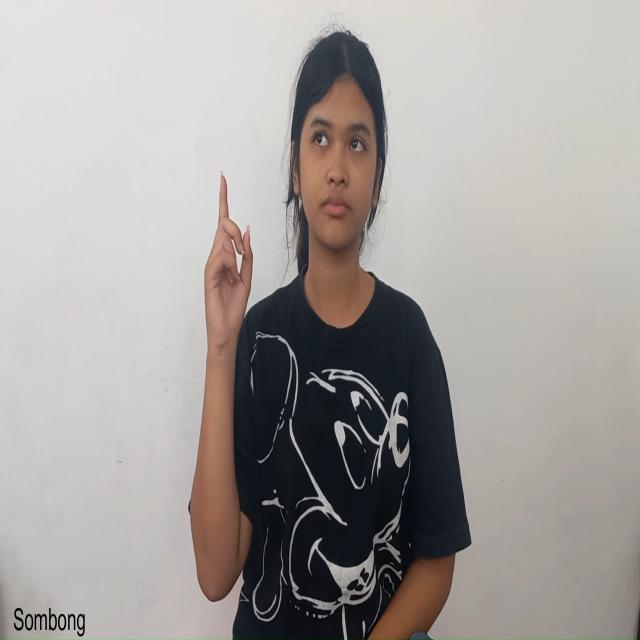Sombong -BISINDO-: (188, 166, 255, 606)
